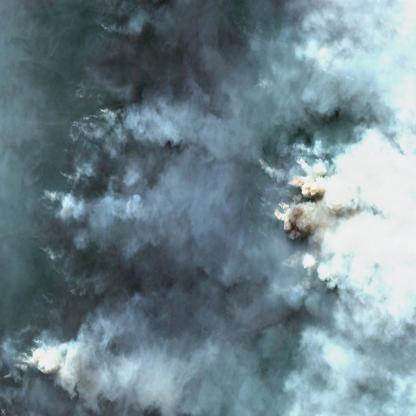fire: (254, 136, 311, 266), (53, 111, 101, 187), (34, 183, 68, 278), (13, 321, 47, 397)
